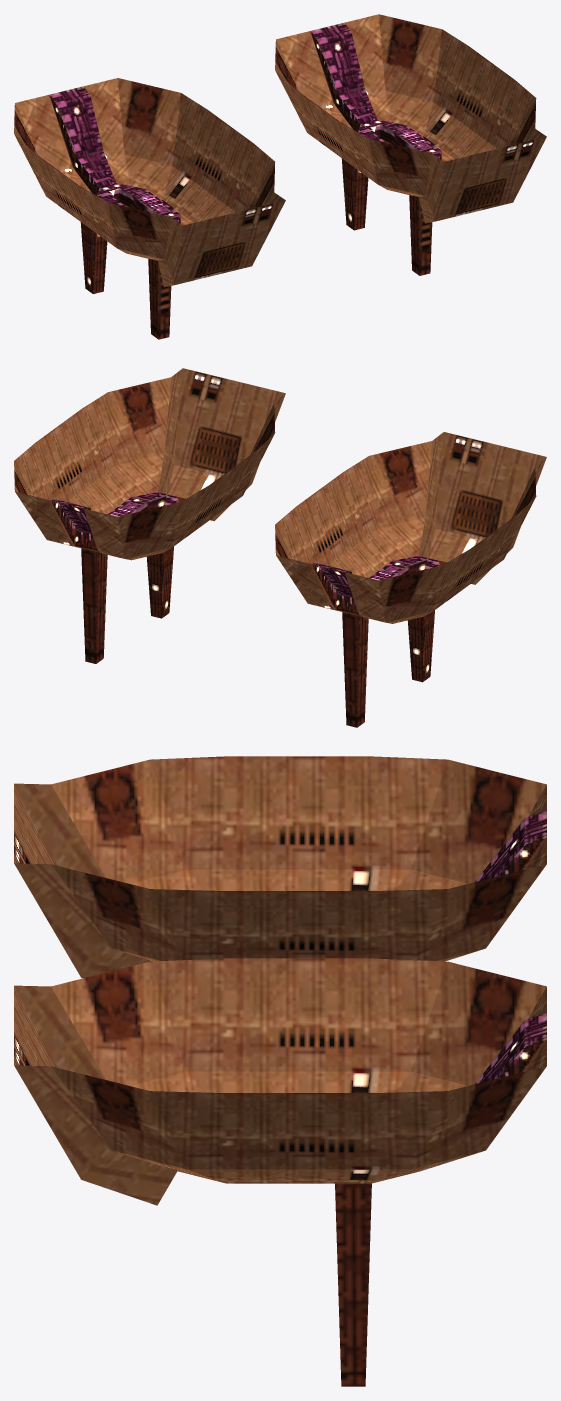
File: kpr_destroyer_gravgen.dae
3 views of the same model, one above another, from view 1: azimuth 30°, elevation 25°; view 2: azimuth 150°, elevation 25°; view 3: azimuth 270°, elevation 25° (orthographic). The views are drawn at different scales.
Parts seen in each view (by area): view 1: MULT[Root_mesh]_LOD[1], MULT[Root_mesh]_LOD[0]; view 2: MULT[Root_mesh]_LOD[1], MULT[Root_mesh]_LOD[0]; view 3: MULT[Root_mesh]_LOD[1], MULT[Root_mesh]_LOD[0].
Part boxes in pixels (left/top/right/bottom): MULT[Root_mesh]_LOD[1]: left=275, top=14, right=546, bottom=275; MULT[Root_mesh]_LOD[0]: left=14, top=78, right=285, bottom=339; MULT[Root_mesh]_LOD[1]: left=14, top=368, right=285, bottom=663; MULT[Root_mesh]_LOD[0]: left=275, top=432, right=546, bottom=727; MULT[Root_mesh]_LOD[1]: left=14, top=958, right=546, bottom=1386; MULT[Root_mesh]_LOD[0]: left=14, top=756, right=546, bottom=978.
Bounding box in the file's own units: 76.69 × 35.21 × 51.3.
Materials: 1 (1 with a texture image).
